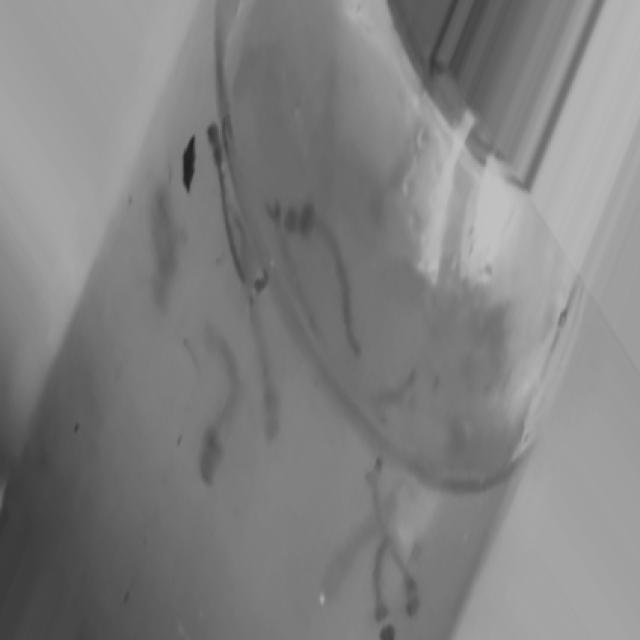larvas: (295, 188, 386, 376), (355, 451, 438, 626), (263, 201, 338, 360), (206, 122, 270, 285), (196, 316, 241, 478), (245, 295, 292, 437), (150, 184, 183, 300), (328, 517, 376, 596), (371, 561, 403, 640), (375, 373, 419, 423)
